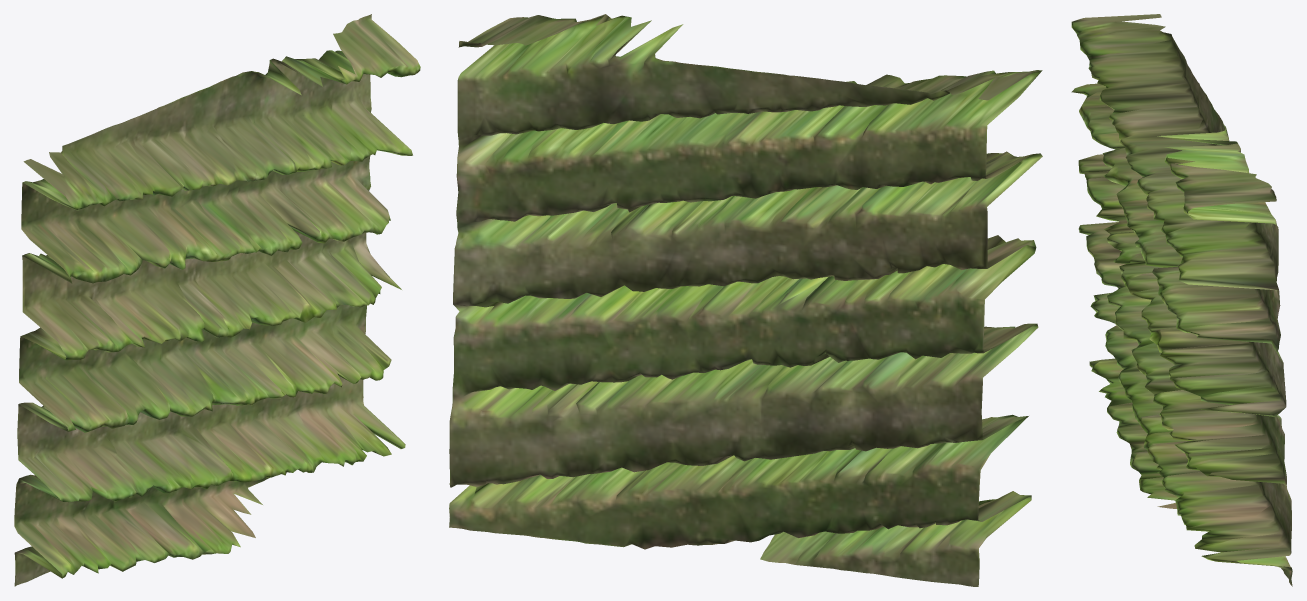
File: map_160_0.obj
The picture shows the model from 3 angles, left to right: view 1: azimuth 30°, elevation 25°; view 2: azimuth 150°, elevation 25°; view 3: azimuth 270°, elevation 25°; orthographic projection. The views are drawn at different scales.
Bounding box in the file's own units: 10 × 10 × 5.13.
Materials: 1 (1 with a texture image).
